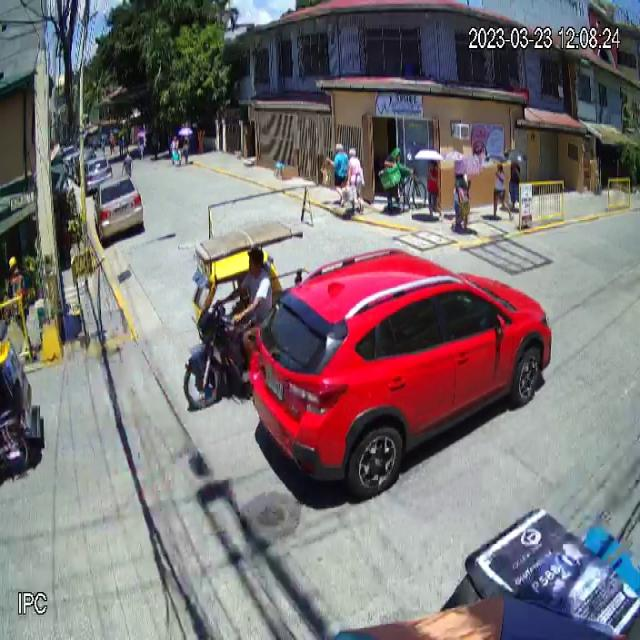Car: (248, 245, 553, 499)
Tricycle: (182, 216, 304, 410)
